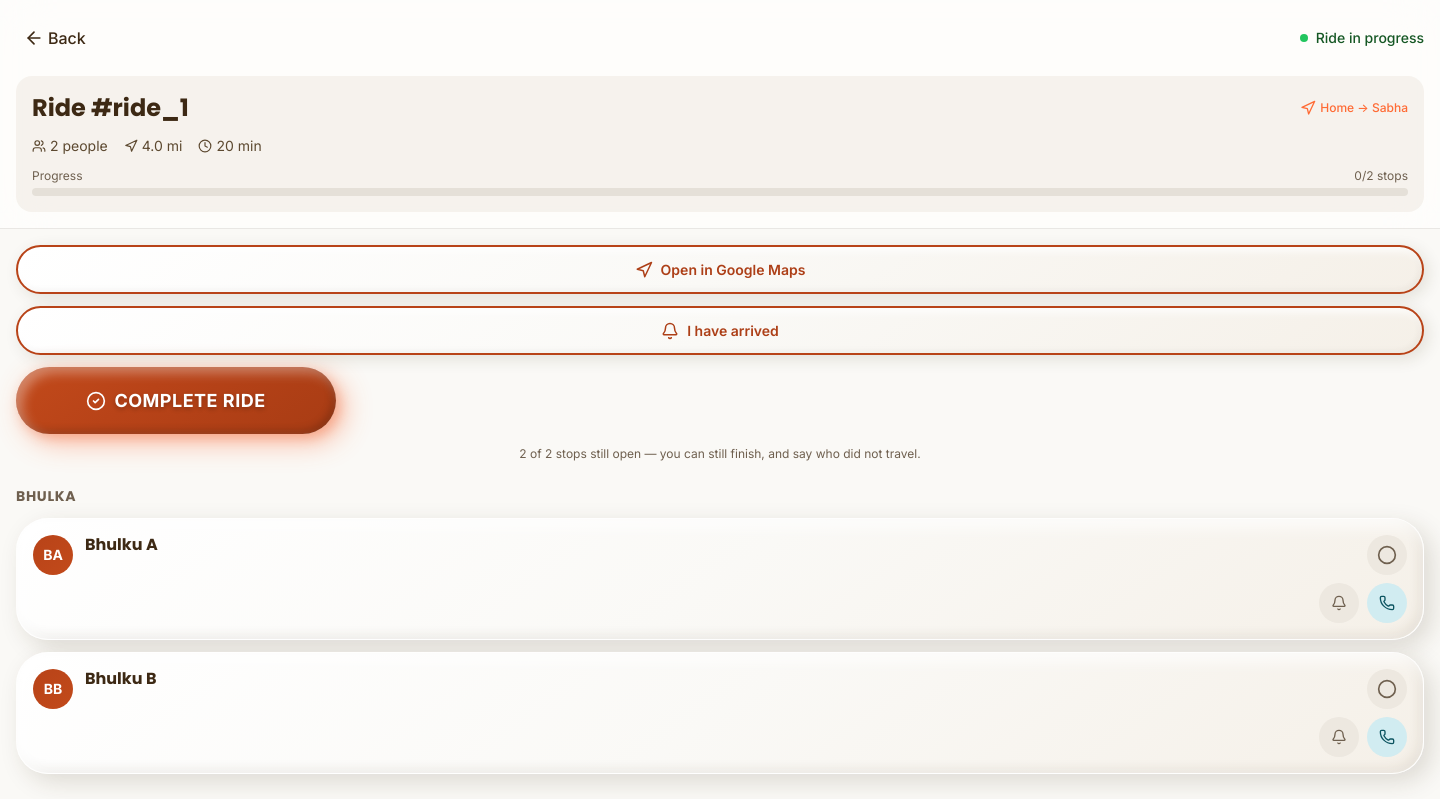
Test: waiting outside, and the two things a Sarthi can do about it › confirms when it did reach them
Click the button named "Nudge Bhulku A": (1339, 603) [1319, 583, 1359, 623]
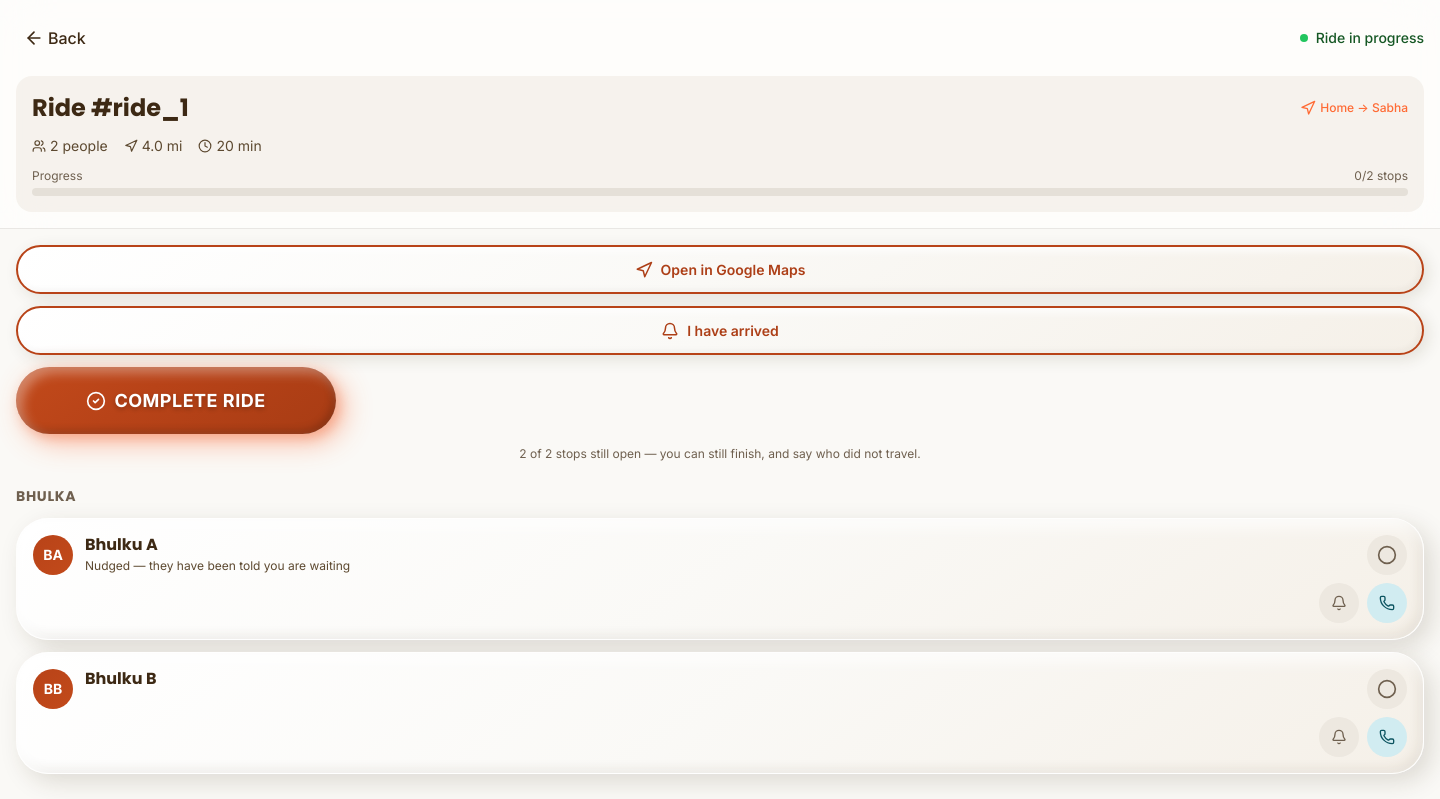
Now the text "Nudged — they have been told you are waiting" is shown, box [85, 558, 350, 573]
